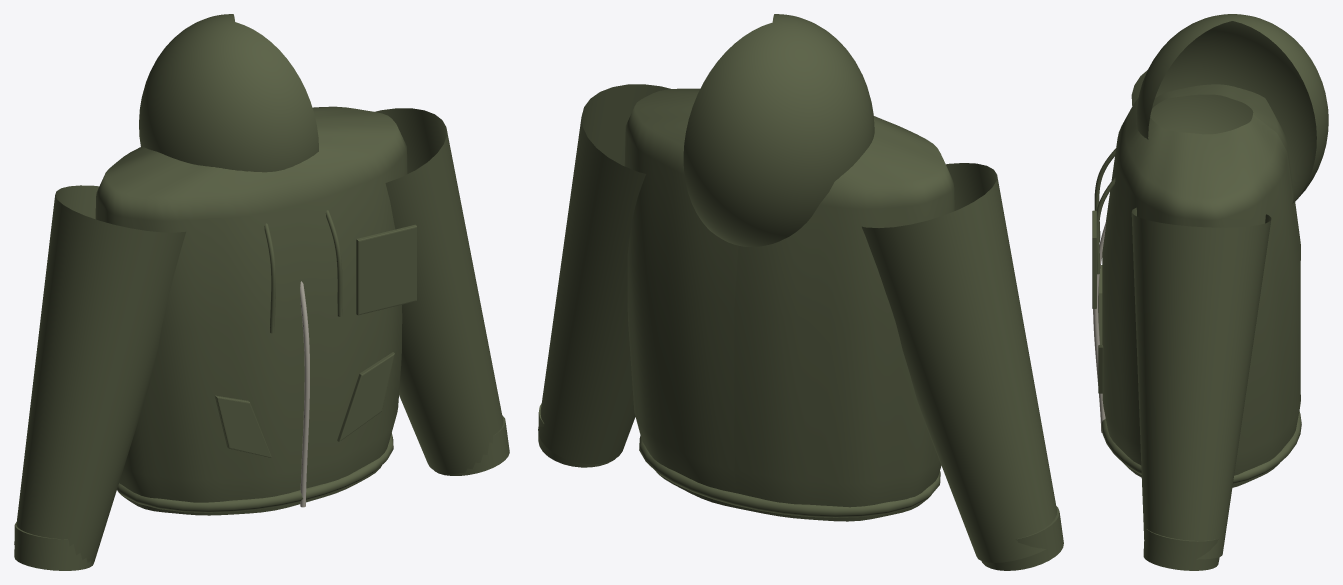
Rendered from hoodie-olive-homme.glb.
3 renders of one model, left to right at view 1: azimuth 30°, elevation 25°; view 2: azimuth 150°, elevation 25°; view 3: azimuth 270°, elevation 25°, orthographic. The views are drawn at different scales.
Visible parts, largest first — view 1: hoodie-olive, long-sleeve (×2); view 2: hoodie-olive, long-sleeve (×2); view 3: hoodie-olive, long-sleeve.
Part boxes in pixels (left/top/right/bottom): hoodie-olive: left=14, top=14, right=509, bottom=570; long-sleeve (×2): left=14, top=108, right=503, bottom=563; hoodie-olive: left=538, top=14, right=1063, bottom=570; long-sleeve (×2): left=538, top=84, right=1056, bottom=562; hoodie-olive: left=1092, top=14, right=1328, bottom=570; long-sleeve: left=1131, top=207, right=1271, bottom=559.
Bounding box in the file's own units: 0.7702 × 0.7203 × 0.344.
